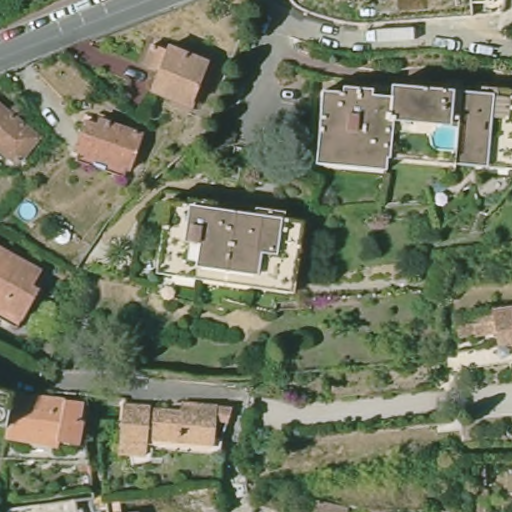pool: (428, 124, 465, 156), (15, 198, 40, 224)
